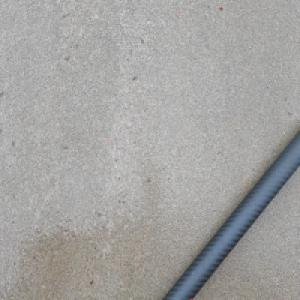LuggagePart: (153, 127, 299, 300)
